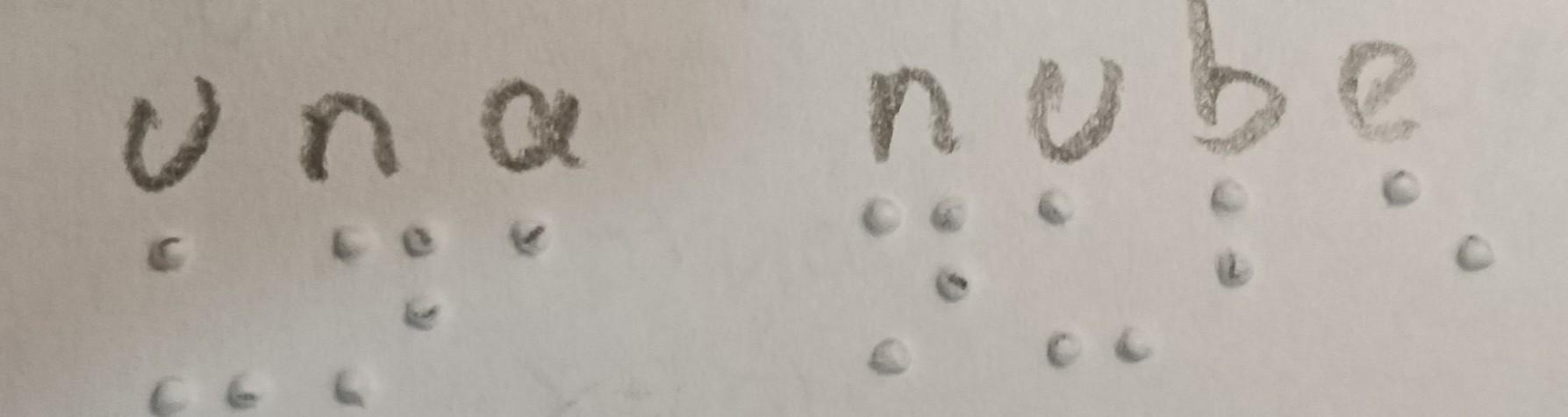a: (476, 205, 593, 293)
b: (1160, 177, 1307, 310)
e: (1307, 159, 1520, 303)
n: (286, 212, 479, 417), (851, 182, 1000, 392)
u: (1002, 177, 1162, 382), (114, 216, 281, 412)
